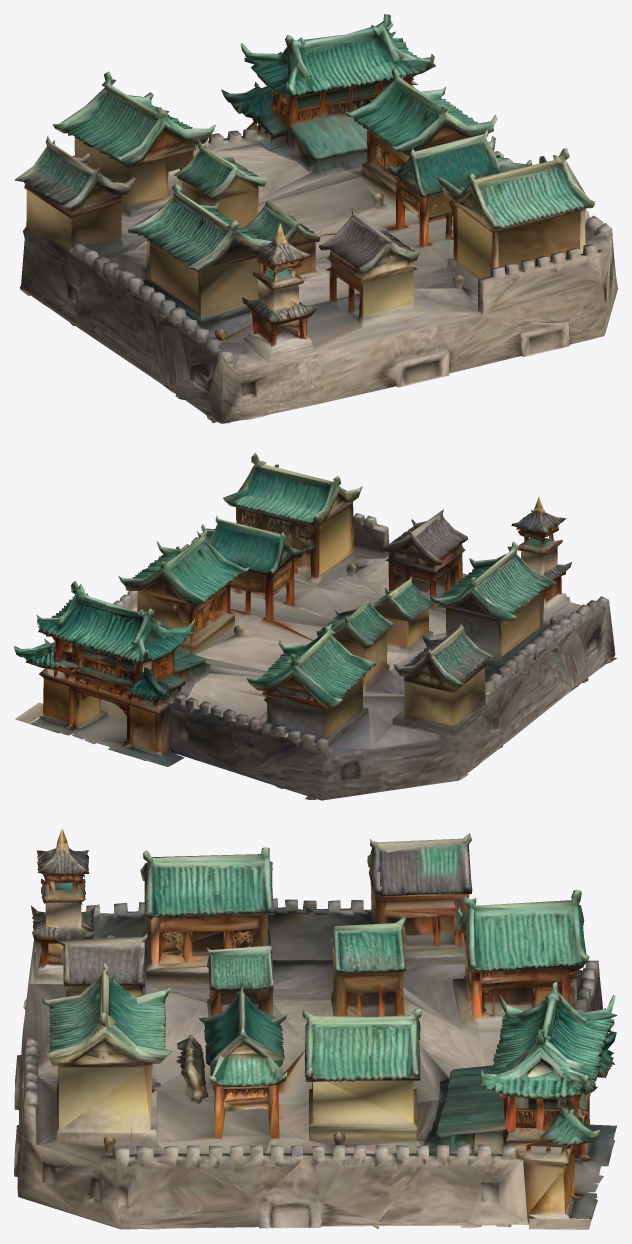
File: changan.glb
3 renders of one model, top to bottom at view 1: azimuth 30°, elevation 25°; view 2: azimuth 150°, elevation 25°; view 3: azimuth 270°, elevation 25°, orthographic. The views are drawn at different scales.
Parts seen in each view (by area): view 1: tripo_node_131d8403-d672-414c-9a45-34b81c7b54e5; view 2: tripo_node_131d8403-d672-414c-9a45-34b81c7b54e5; view 3: tripo_node_131d8403-d672-414c-9a45-34b81c7b54e5.
Boxes of the visible parts, left/top/right/bottom form: tripo_node_131d8403-d672-414c-9a45-34b81c7b54e5: left=14, top=14, right=617, bottom=423; tripo_node_131d8403-d672-414c-9a45-34b81c7b54e5: left=14, top=453, right=617, bottom=800; tripo_node_131d8403-d672-414c-9a45-34b81c7b54e5: left=14, top=829, right=617, bottom=1229.
Bounding box in the file's own units: 24.71 × 8.97 × 24.82.
Materials: 1 (1 with a texture image).
